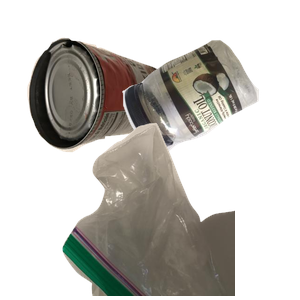glass: (102, 181, 246, 300)
metal: (25, 35, 189, 180)
plastic: (120, 37, 300, 185)
trash: (60, 120, 300, 300)
